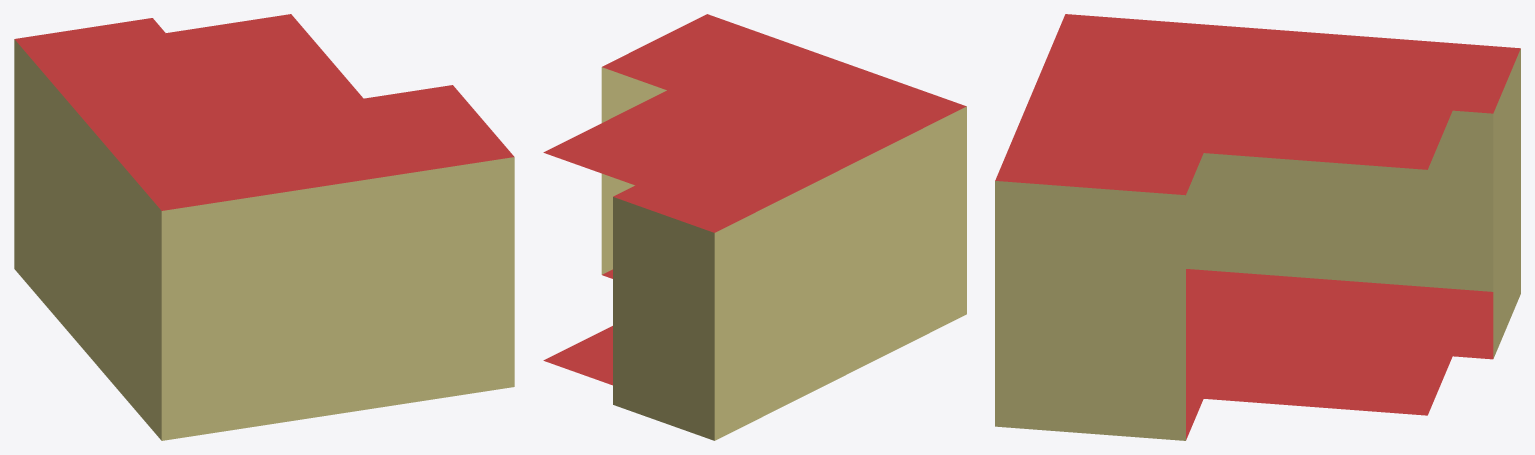
3 renders of one model, left to right at view 1: azimuth 30°, elevation 25°; view 2: azimuth 150°, elevation 25°; view 3: azimuth 270°, elevation 25°, orthographic. The views are drawn at different scales.
Bounding box in the file's own units: 10.5 × 12.87 × 6.64.
